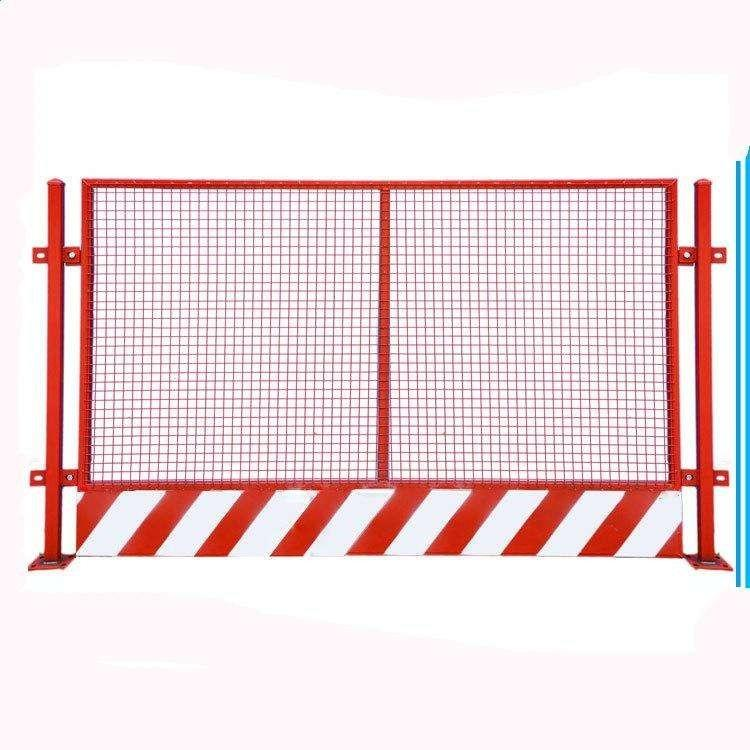sign: (22, 152, 737, 577)
